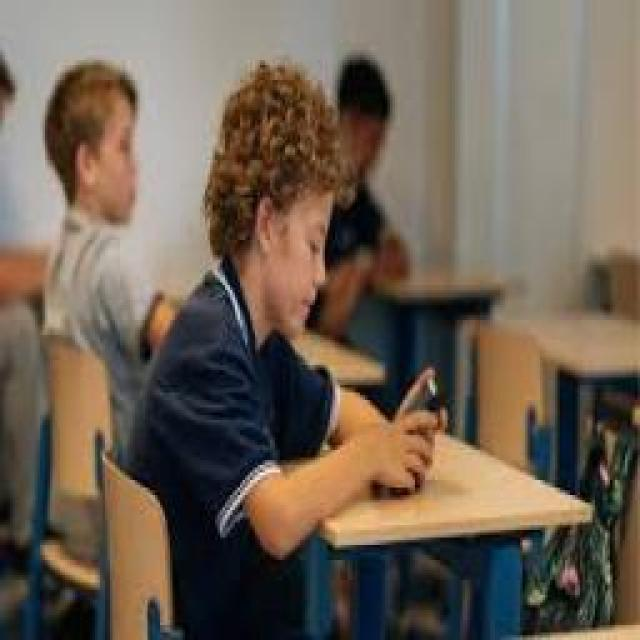phone: (145, 55, 443, 503)
